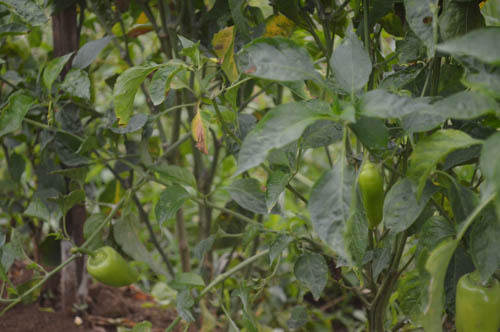ChiliPepper: (453, 275, 500, 330), (89, 248, 140, 287), (359, 165, 387, 226)
